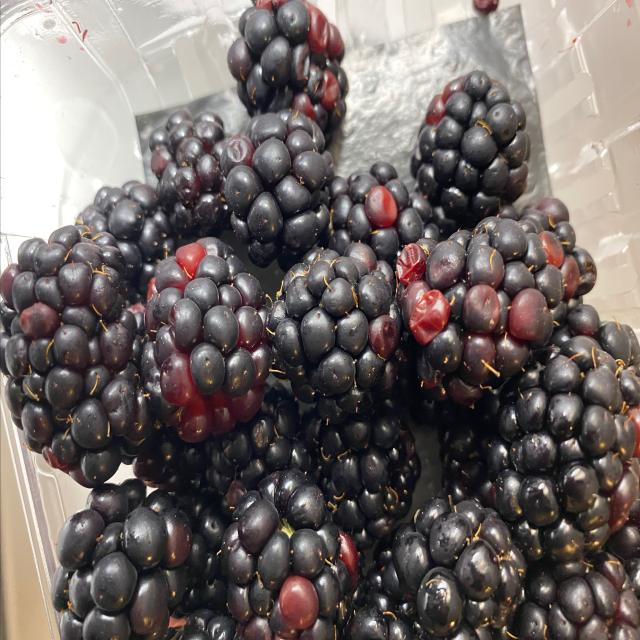blackberries: (22, 10, 633, 627)
